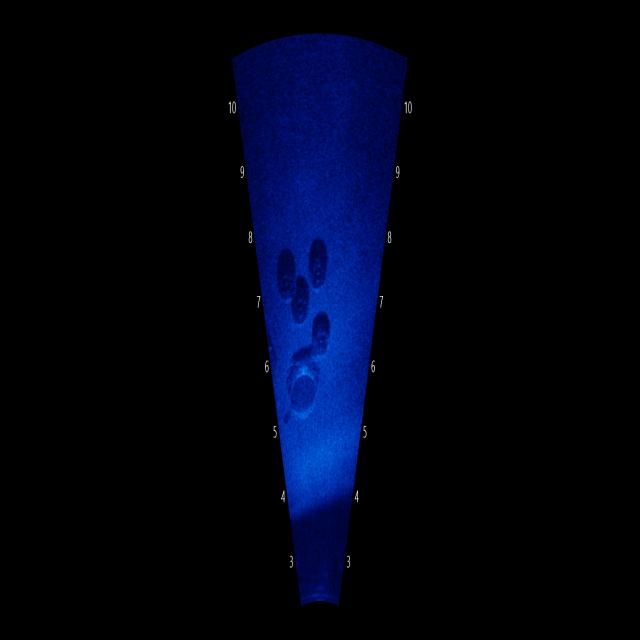circle: (282, 353, 322, 423), (288, 257, 312, 338), (307, 309, 338, 369), (305, 232, 329, 299), (279, 249, 302, 305)
